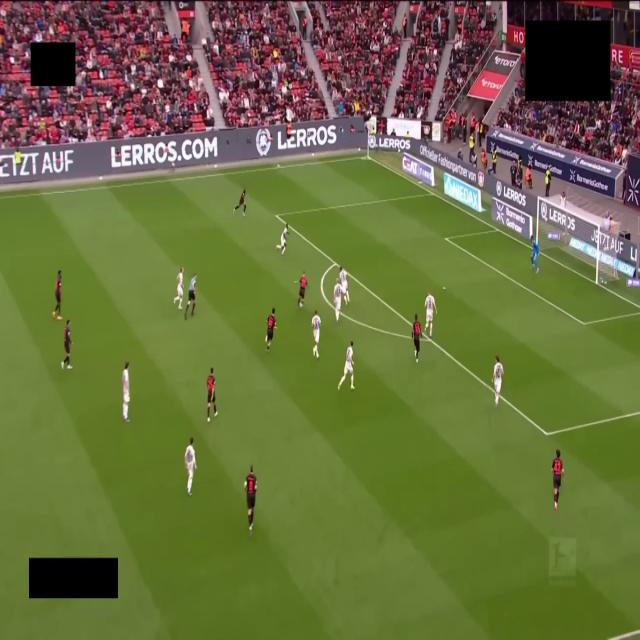ball: (300, 302, 302, 308)
player: (244, 465, 257, 533), (338, 342, 354, 390), (552, 449, 564, 511), (185, 437, 196, 495), (207, 368, 217, 422), (61, 320, 72, 369), (493, 356, 503, 406), (425, 292, 436, 337), (52, 271, 62, 320), (265, 308, 276, 351), (412, 314, 421, 362), (122, 361, 129, 422), (296, 272, 307, 308), (174, 267, 183, 310), (312, 311, 320, 359), (276, 224, 288, 255), (339, 267, 349, 304), (333, 279, 341, 321), (234, 189, 245, 216), (531, 235, 539, 272)
referee: (185, 273, 196, 319)
